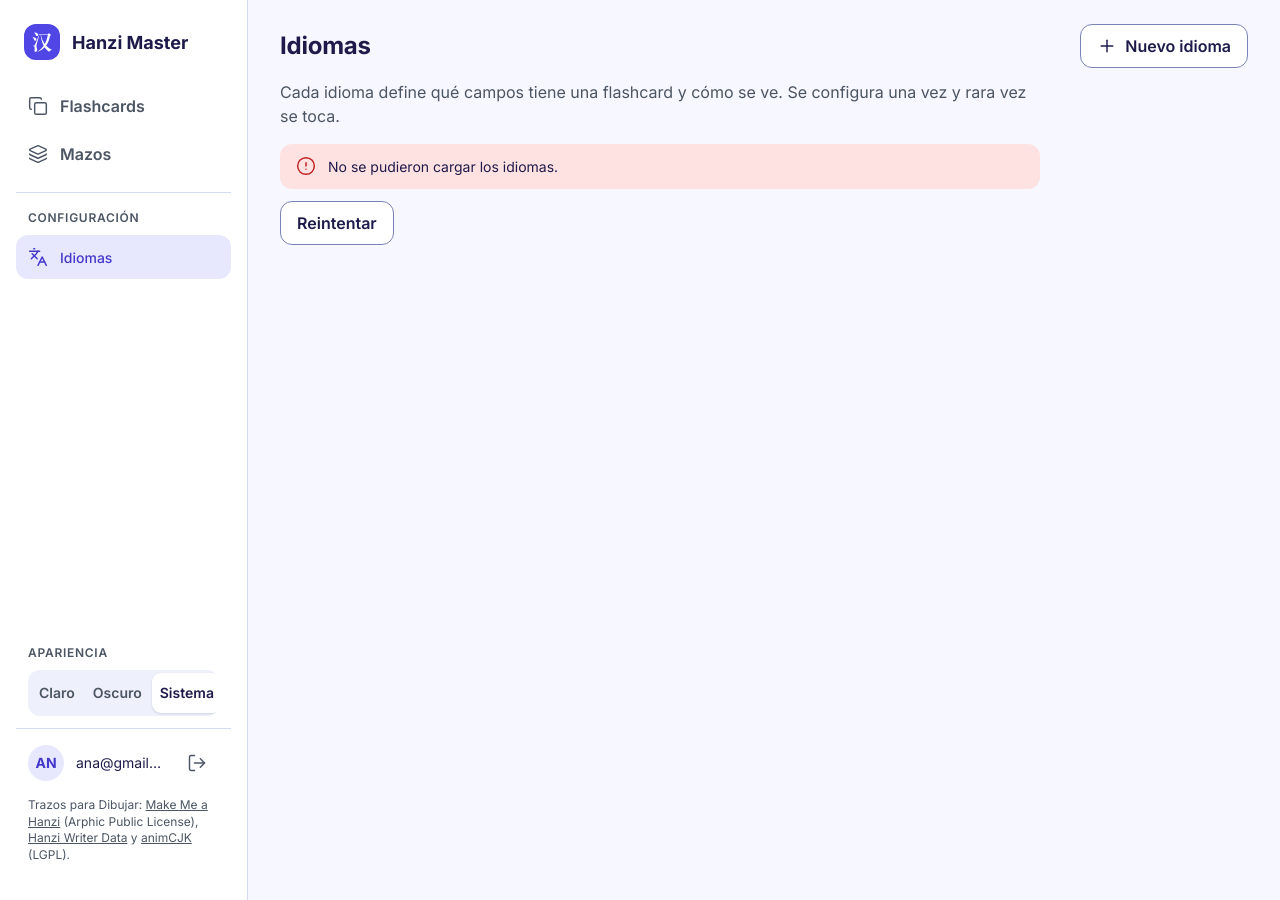
Test: I01 · Listado de idiomas › muestra el estado de error con Reintentar
The image size is (1280, 900).
Expected: the message shows "No se pudieron cargar los idiomas", [328,158,558,175]
Click the button "Reintentar" at (337, 223), box [280,201,394,245]
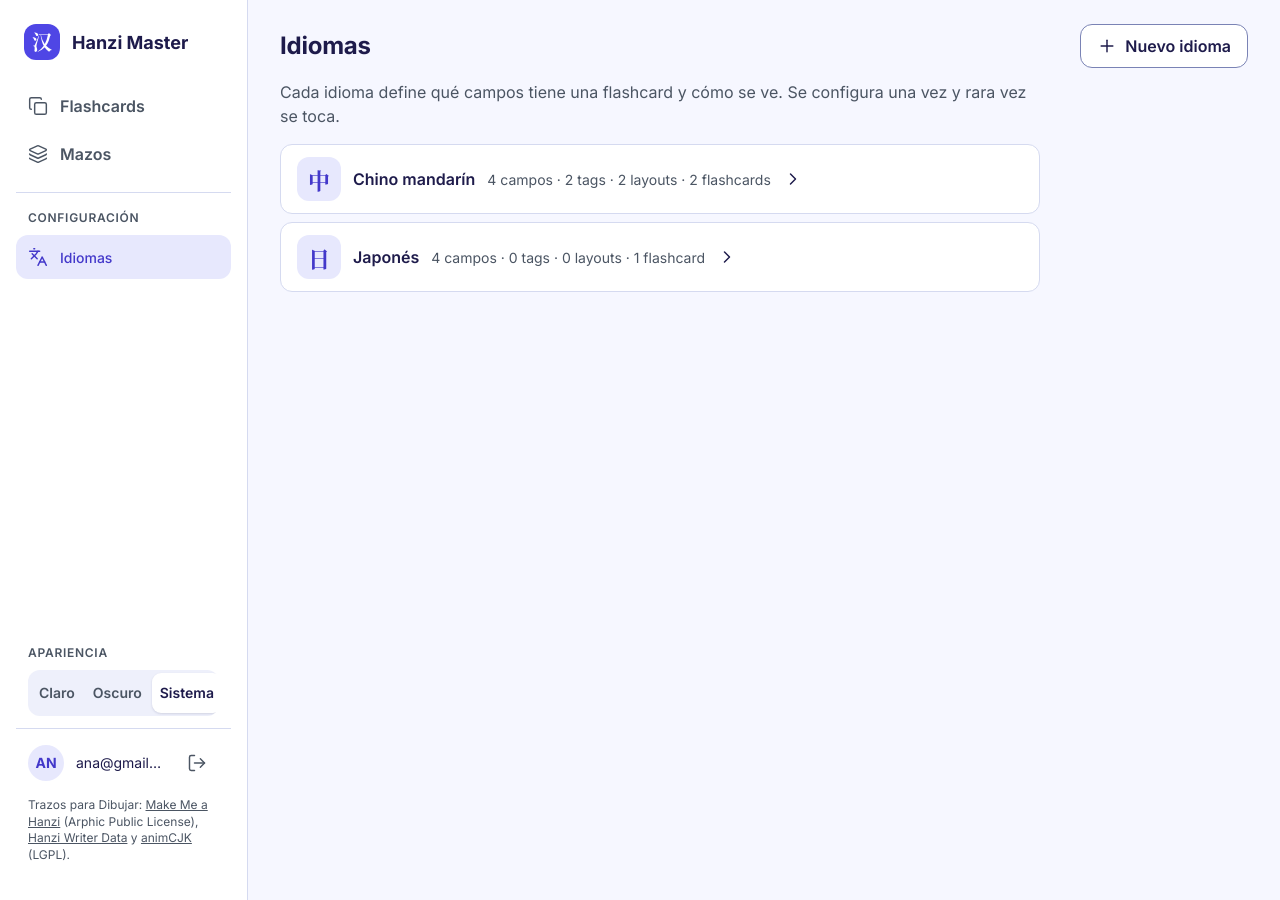
Expected: the text "Chino mandarín" is shown, [353,167,475,191]
